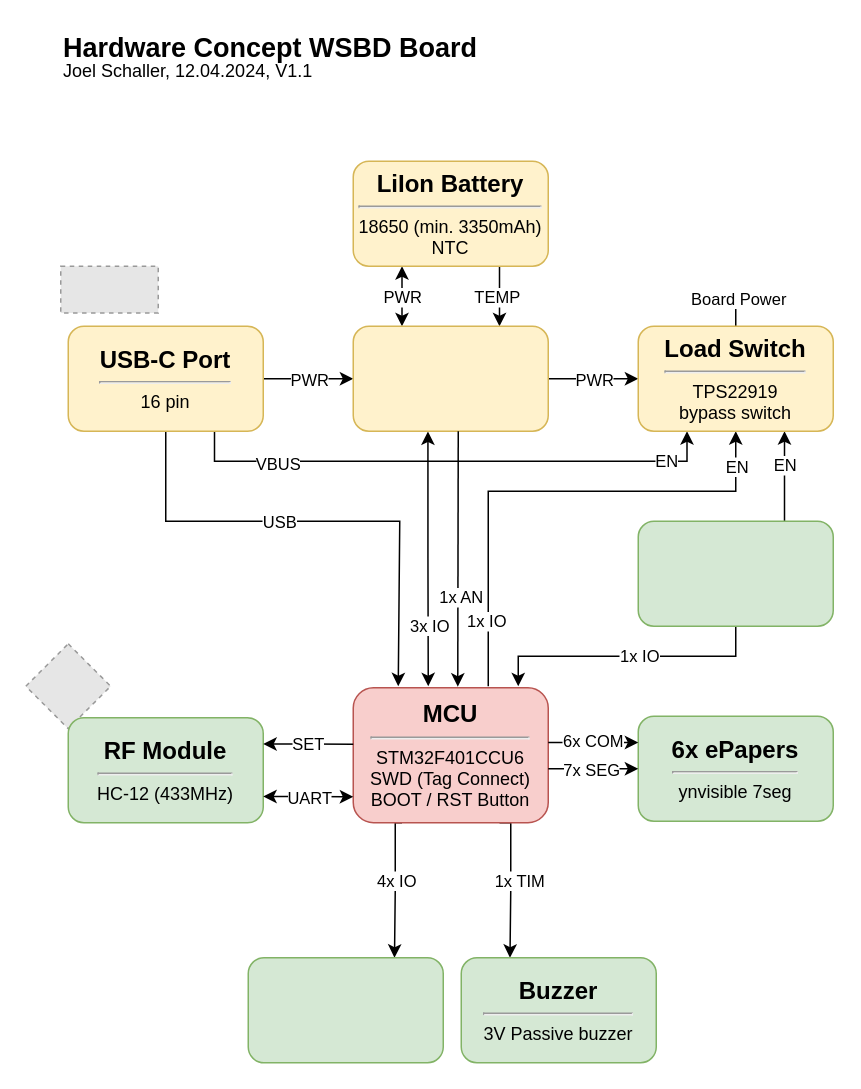
The diagram is 861 pixels wide and 1089 high, and some of its shapes have lost their labels. Grey dashed boxes stand in for pictures. Each missing label, with the centre of its shape:
"4x LED green as Power LEDs" goes at [345,1009].
"BMS STNS01PUR" goes at [450,378].
"Power Button SPST to BAT" goes at [735,573].
